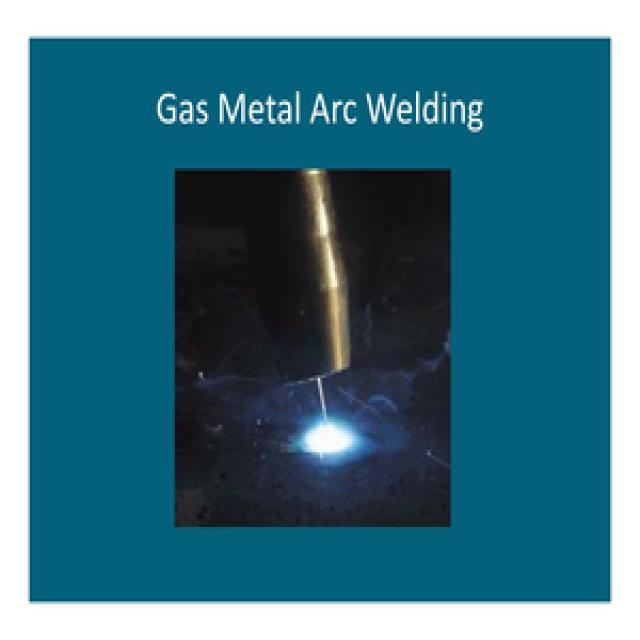welding: (293, 412, 360, 457)
